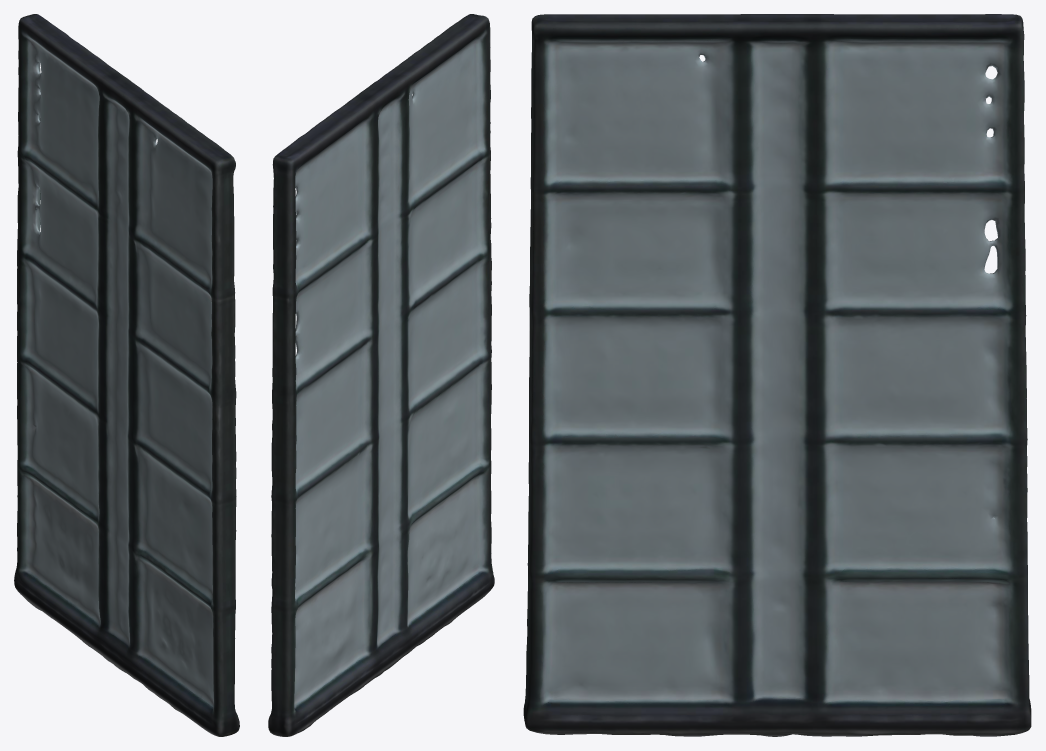
Rendered from 813929ff3300_large_modern_glass_.fbx.
The picture shows the model from 3 angles, left to right: view 1: azimuth 30°, elevation 25°; view 2: azimuth 150°, elevation 25°; view 3: azimuth 270°, elevation 25°; orthographic projection. The views are drawn at different scales.
Parts seen in each view (by area): view 1: high_poly; view 2: high_poly; view 3: high_poly.
Boxes of the visible parts, box(x1,y1,x2,y2) form: high_poly: box(14, 14, 239, 736); high_poly: box(268, 14, 494, 736); high_poly: box(523, 14, 1031, 736).
Bounding box in the file's own units: 4.75 × 100 × 64.19.
